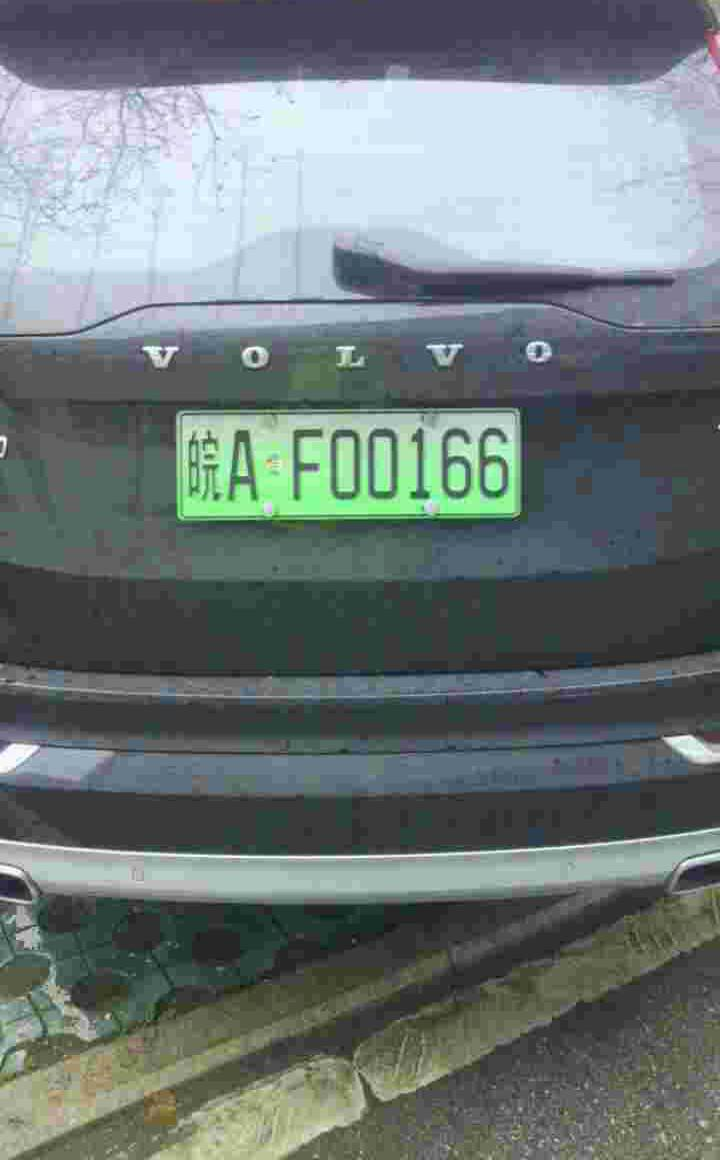car_green: (169, 406, 528, 528)
